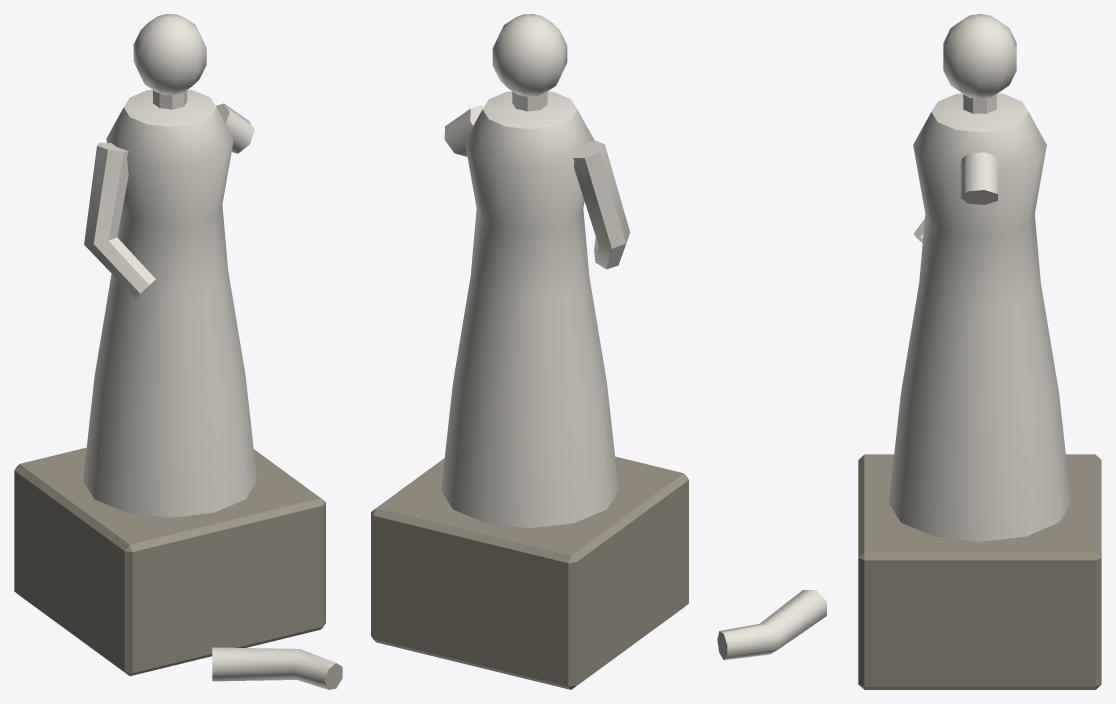
The model's file is broken-statue.glb.
3 renders of one model, left to right at view 1: azimuth 30°, elevation 25°; view 2: azimuth 150°, elevation 25°; view 3: azimuth 270°, elevation 25°, orthographic. The views are drawn at different scales.
Parts seen in each view (by area): view 1: Statue figure, Statue plinth, Statue fallen arm, Statue arm stub; view 2: Statue figure, Statue plinth, Statue arm stub; view 3: Statue figure, Statue plinth, Statue fallen arm, Statue arm stub.
Boxes of the visible parts, x1,y1,x2,y2 form: Statue figure: [83, 14, 257, 517]; Statue plinth: [14, 447, 325, 675]; Statue fallen arm: [212, 647, 342, 689]; Statue arm stub: [216, 103, 254, 153]; Statue figure: [441, 14, 630, 528]; Statue plinth: [371, 456, 688, 689]; Statue arm stub: [444, 105, 483, 156]; Statue figure: [889, 14, 1071, 541]; Statue plinth: [858, 454, 1101, 689]; Statue fallen arm: [717, 590, 826, 660]; Statue arm stub: [960, 152, 997, 204].
Size of the model in its own units: 0.8 by 2.26 by 1.26.
